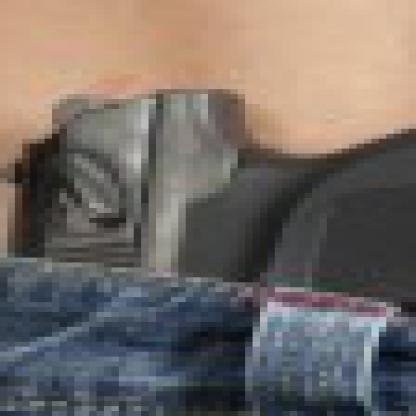gun: (0, 29, 409, 415)
